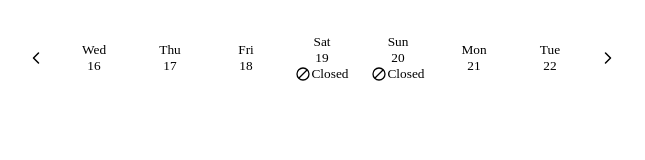
it: DateStrip (US-005/AC-02, AC-03, AC-04) › paging forward advances the rolling window by one day, keeping the same interaction at every width
Click the button named "Later dates": (608, 58) [588,38,628,78]
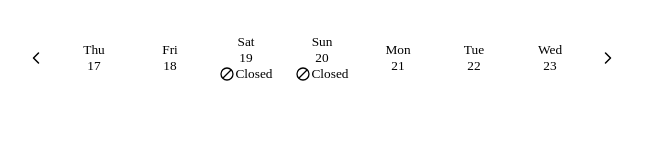
Expected: the button named "Earlier dates" is enabled, [16,38,56,78]
Expected: the radio button labelled "Wed 16" is gone
Expected: the radio button labelled "Wed 23" is shown, [512,8,588,108]
